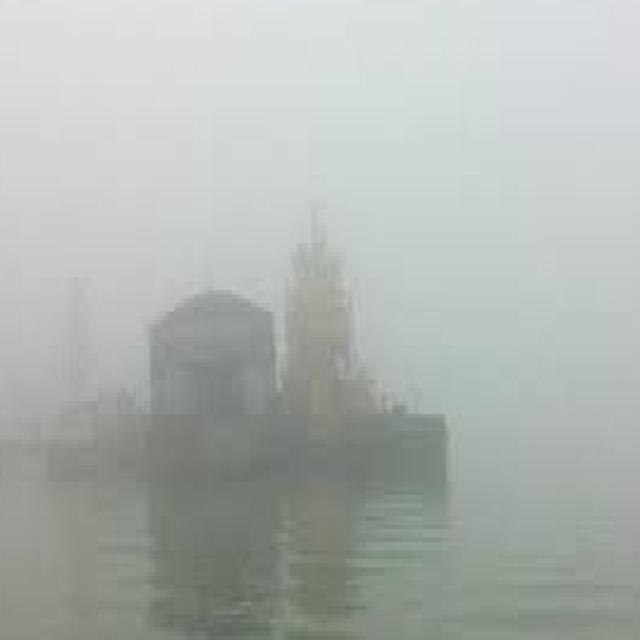fishing boat: (70, 212, 453, 479)
